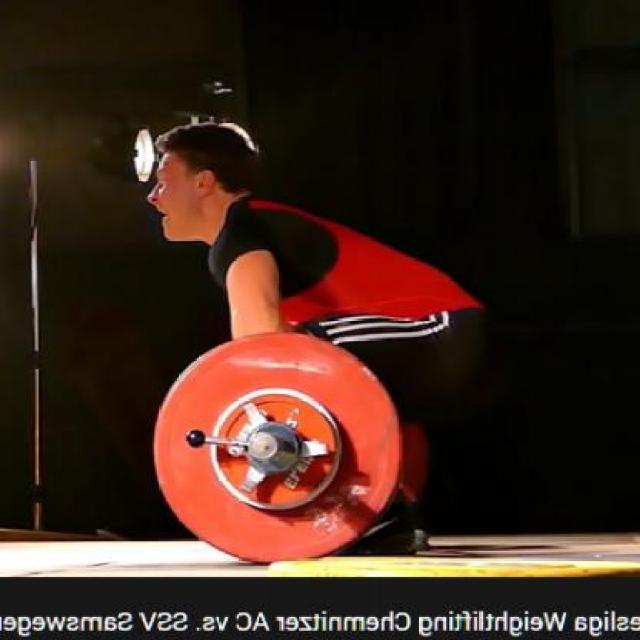Barbell: (228, 412, 300, 474)
